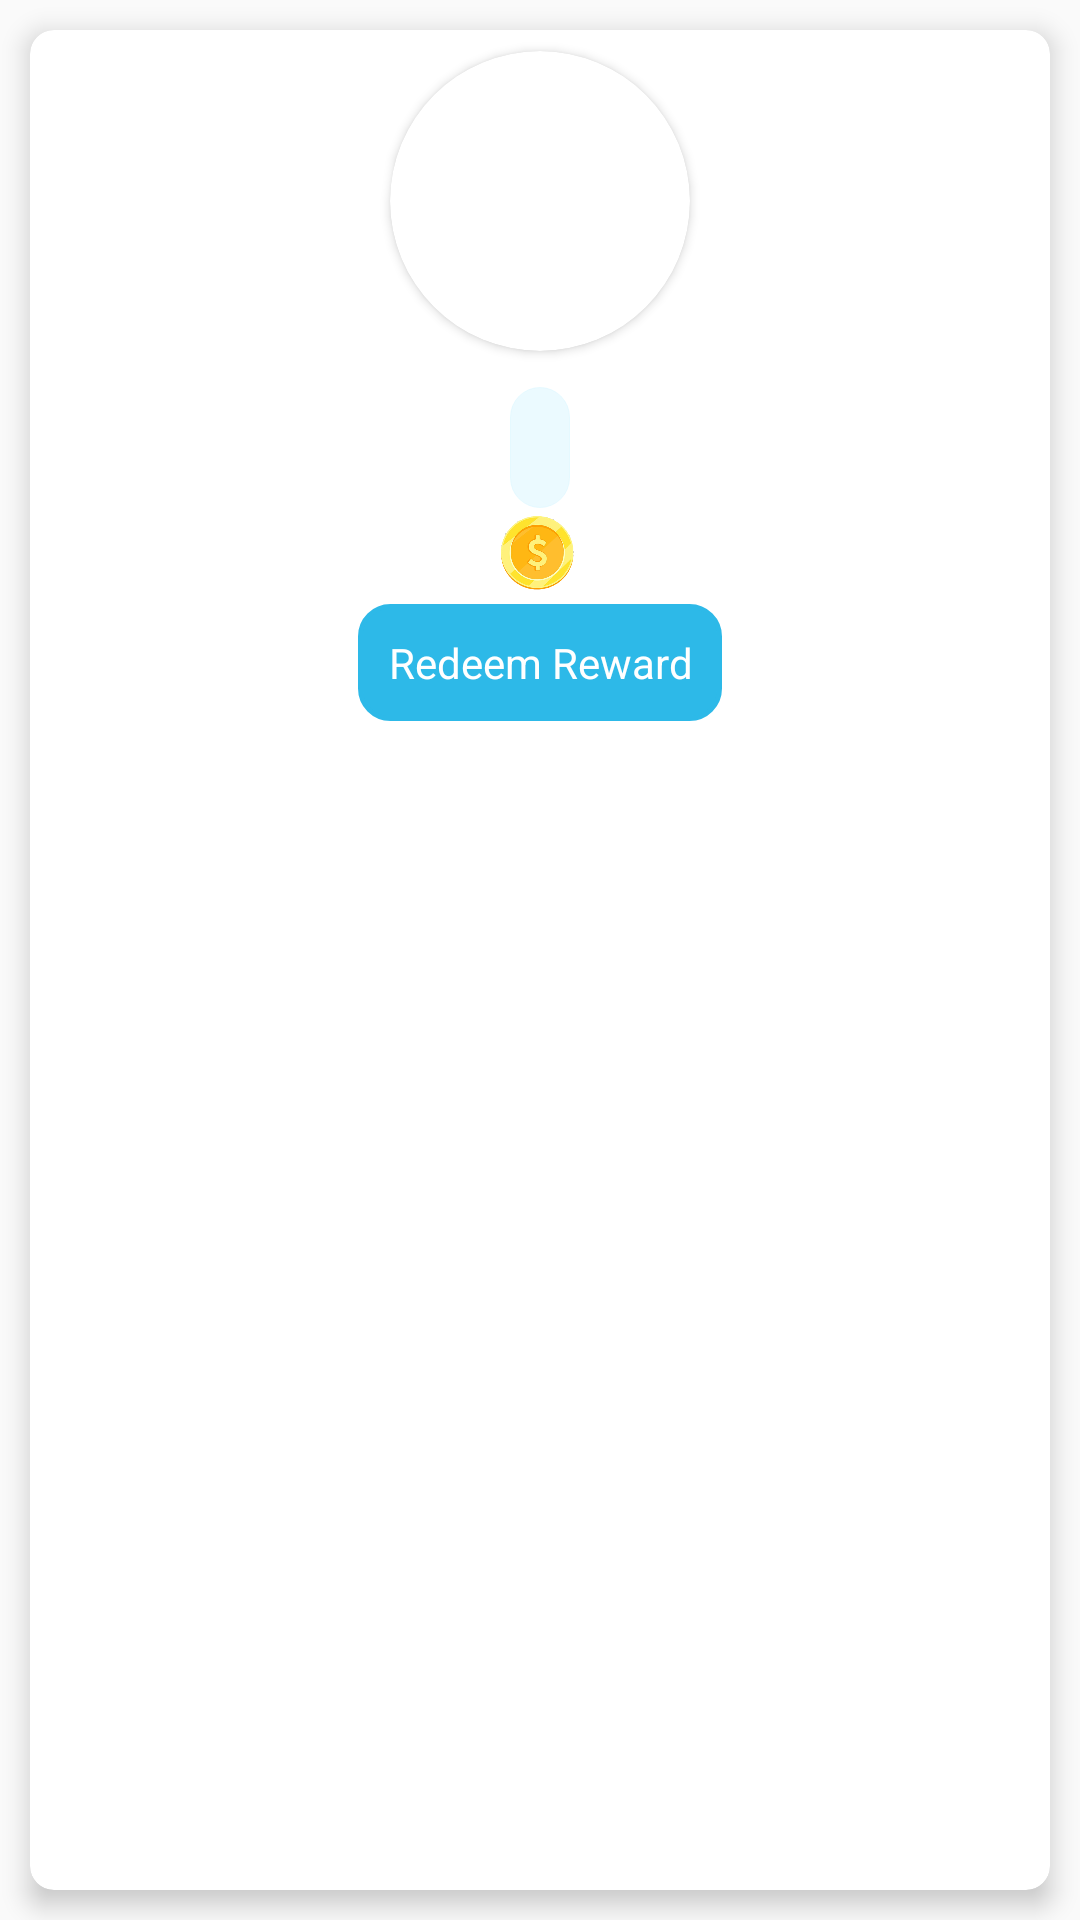

Icon bounding boxes for this 1080w x 1920h phone screenshot, format (x1, y1, x2, y2):
geniecoin: (501, 516, 574, 590)
